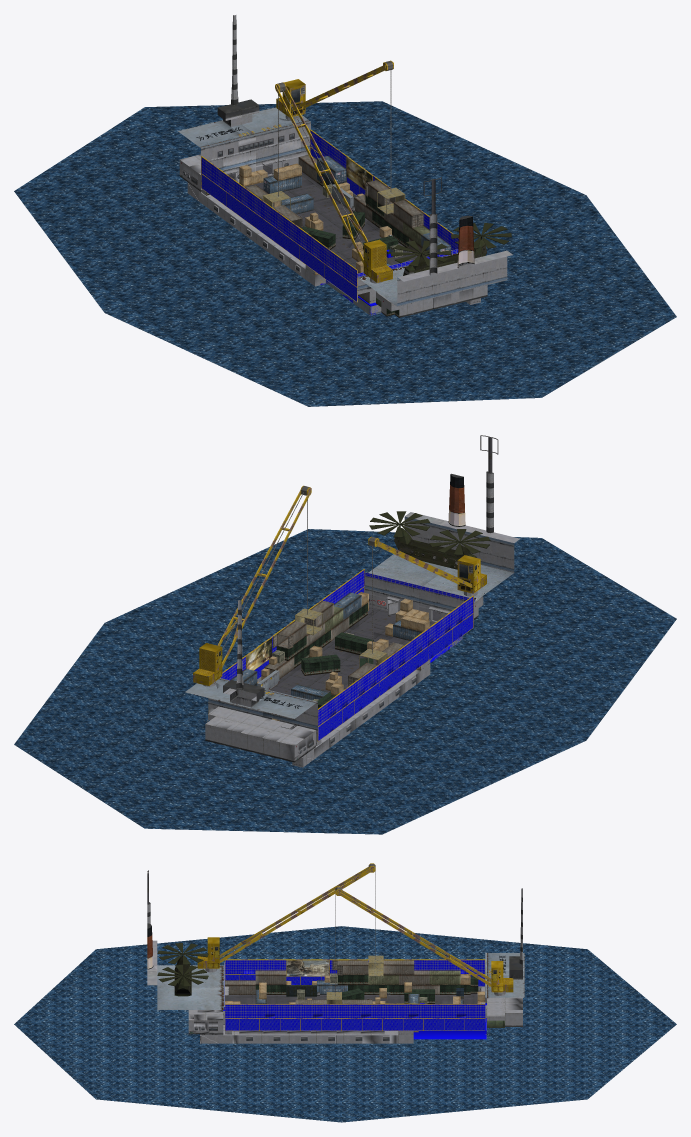
Rendered from ship.glb.
3 renders of one model, top to bottom at view 1: azimuth 30°, elevation 25°; view 2: azimuth 150°, elevation 25°; view 3: azimuth 270°, elevation 25°, orthographic. The views are drawn at different scales.
Parts seen in each view (by area): view 1: Object_3, Object_26, Object_46, Object_14, Object_49, Object_10, Object_48, Object_15, Object_40, Object_21, Object_35, Object_33 (+7 smaller); view 2: Object_3, Object_26, Object_48, Object_10, Object_46, Object_14, Object_49, Object_35, Object_15, Object_40, Object_21, Object_33 (+7 smaller); view 3: Object_3, Object_14, Object_48, Object_15, Object_10, Object_40, Object_21, Object_25, Object_35, Object_46, Object_49, Object_41 (+8 smaller).
Boxes of the visible parts, x1,y1,x2,y2 form: Object_3: (14, 101, 676, 406); Object_26: (201, 121, 507, 315); Object_46: (179, 15, 487, 317); Object_14: (201, 131, 458, 286); Object_49: (184, 133, 441, 268); Object_10: (178, 107, 457, 315); Object_48: (180, 115, 512, 304); Object_15: (201, 148, 365, 301); Object_40: (201, 62, 393, 302); Object_21: (245, 154, 427, 303); Object_35: (390, 223, 511, 275); Object_33: (276, 79, 392, 282); Object_3: (14, 529, 676, 834); Object_26: (208, 516, 514, 767); Object_48: (203, 512, 520, 767); Object_10: (185, 554, 513, 722); Object_46: (205, 471, 493, 762); Object_14: (220, 570, 473, 725); Object_49: (270, 435, 498, 753); Object_35: (369, 511, 490, 569); Object_15: (254, 587, 473, 740); Object_40: (208, 487, 472, 740); Object_21: (264, 600, 404, 679); Object_33: (193, 555, 486, 685); Object_3: (14, 926, 676, 1122); Object_14: (225, 960, 485, 1018); Object_48: (147, 940, 522, 1043); Object_15: (225, 974, 485, 1030); Object_10: (157, 953, 524, 1038); Object_40: (219, 866, 491, 1030); Object_21: (225, 960, 439, 1003); Object_25: (255, 975, 478, 1003); Object_35: (157, 943, 208, 996); Object_46: (147, 888, 522, 1034); Object_49: (147, 870, 486, 1043); Object_41: (225, 959, 485, 1030).
Bounding box in the file's own units: 4352 × 1581 × 6212.
48 materials, 48 textured.
